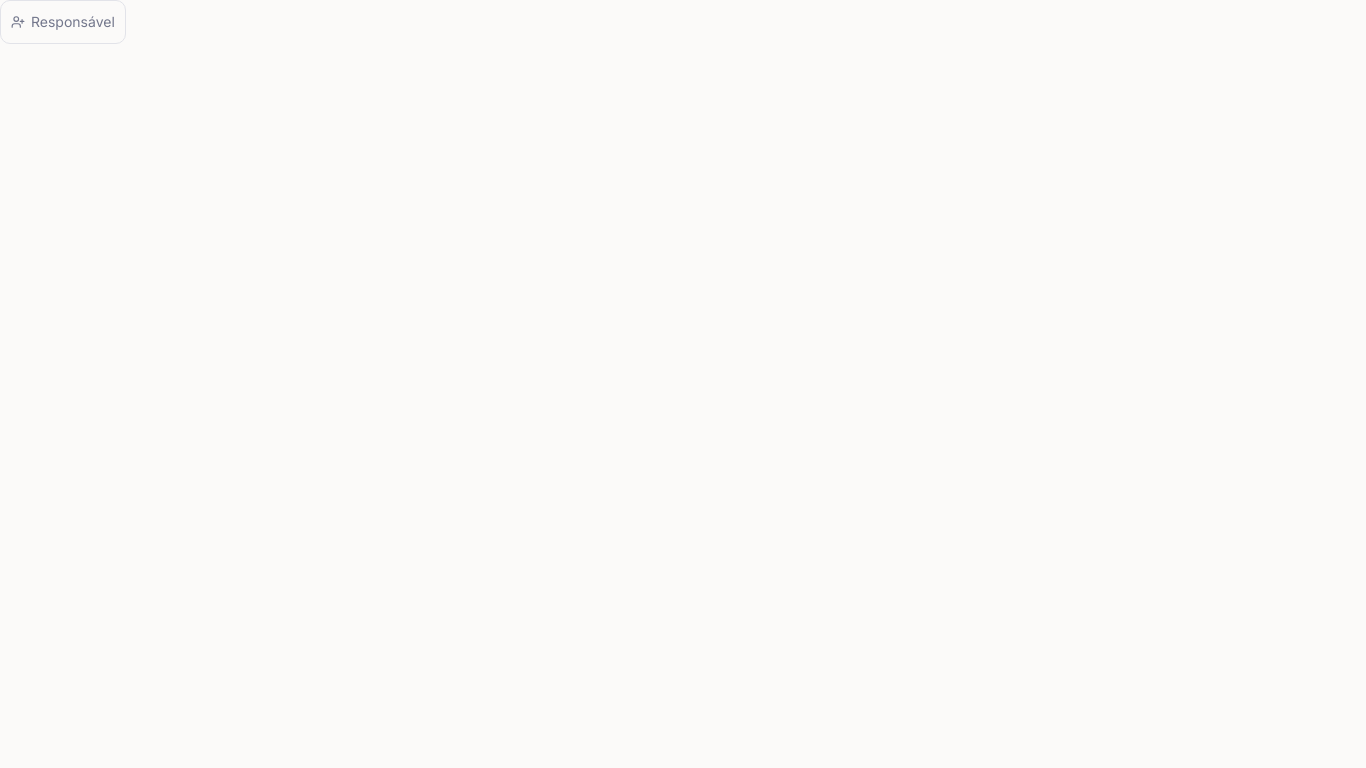
Scenario: AssigneeChip › opens mobile selection without forcing the keyboard and preserves the selection when closed
Click the button with aria-label "Responsável: Responsável". click: (63, 22)
box: [0,0,126,44]
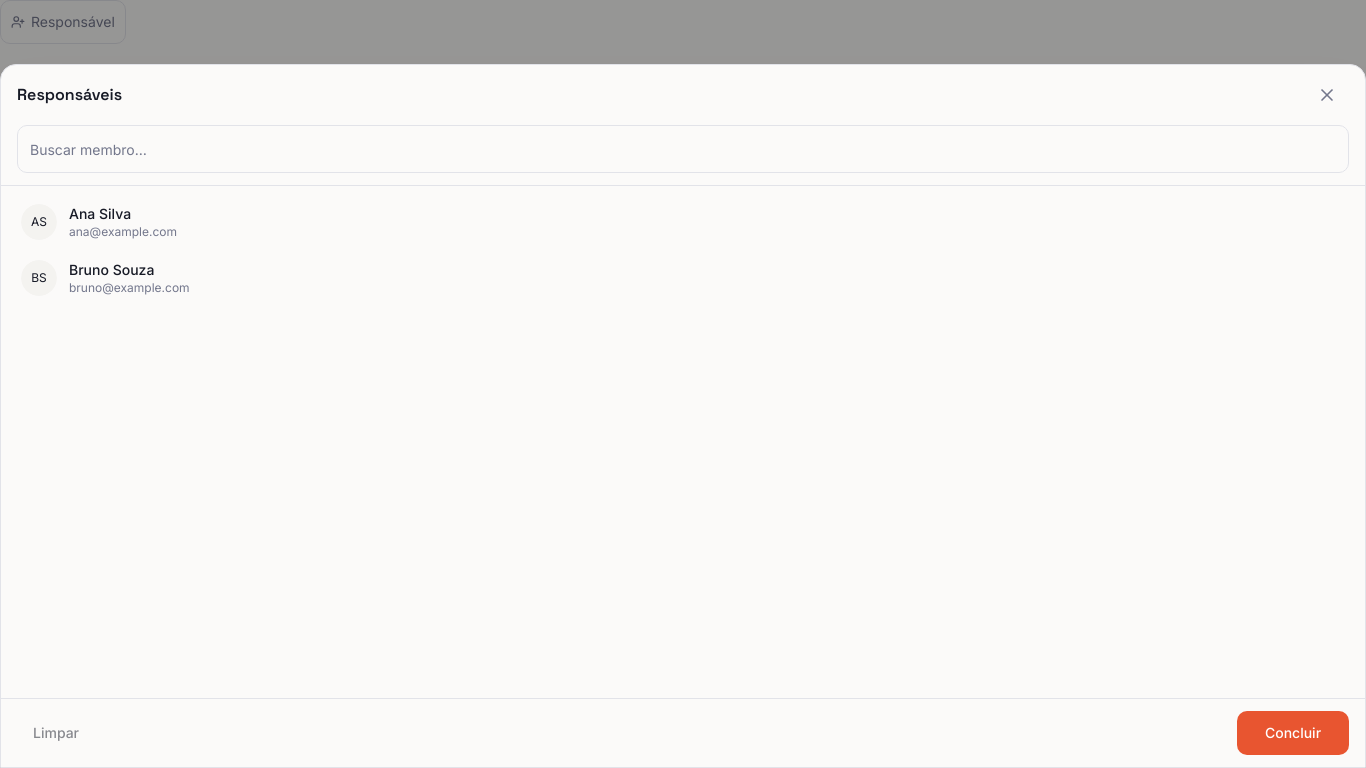
Expected: the dialog "Responsáveis" is shown
Click the button "AS Ana Silva ana@example.com". click: (39, 222)
box: [9,194,1357,250]
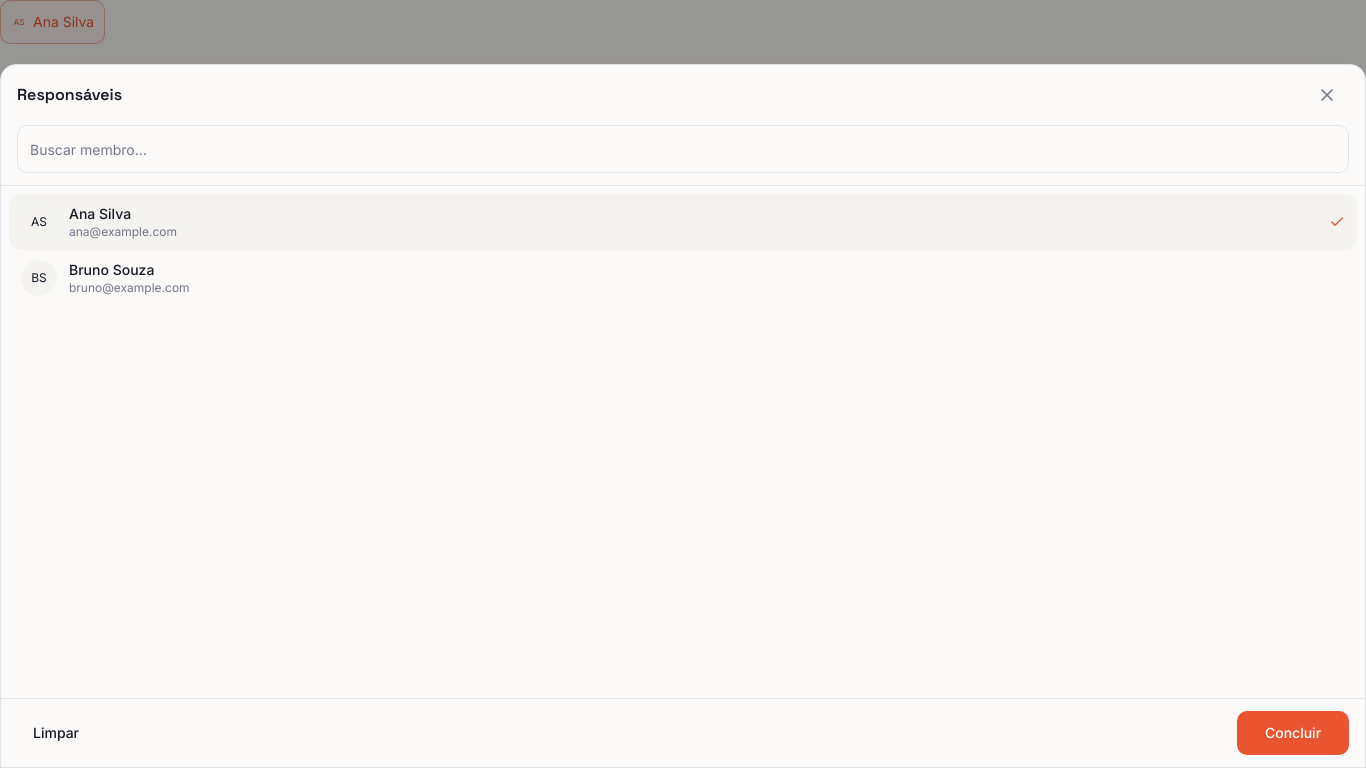
Expected: the button "Concluir" is enabled
Click the button "Concluir". click: (1293, 733)
box: [1237,711,1349,755]
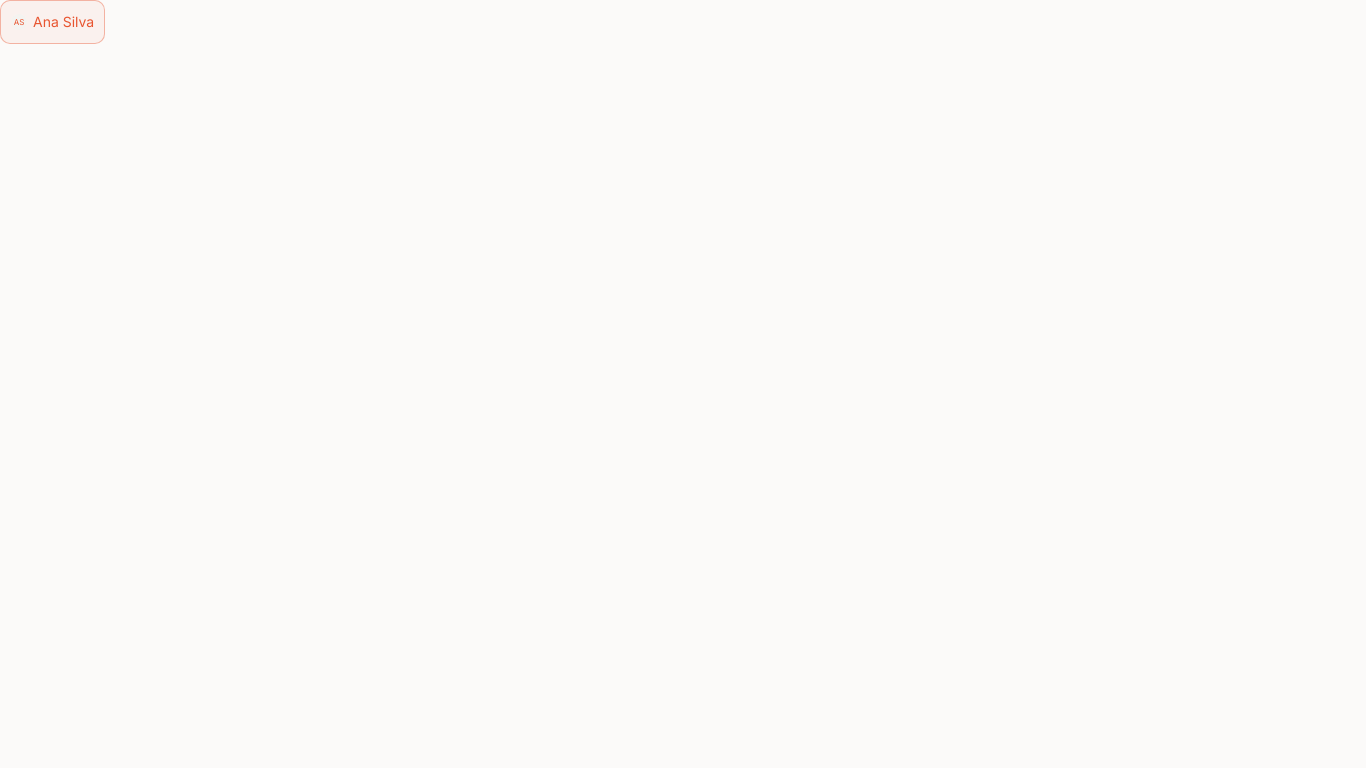
Expected: the button with aria-label "Responsável: Ana Silva" is shown
Click the button with aria-label "Responsável: Ana Silva". click: (53, 22)
box: [0,0,105,44]
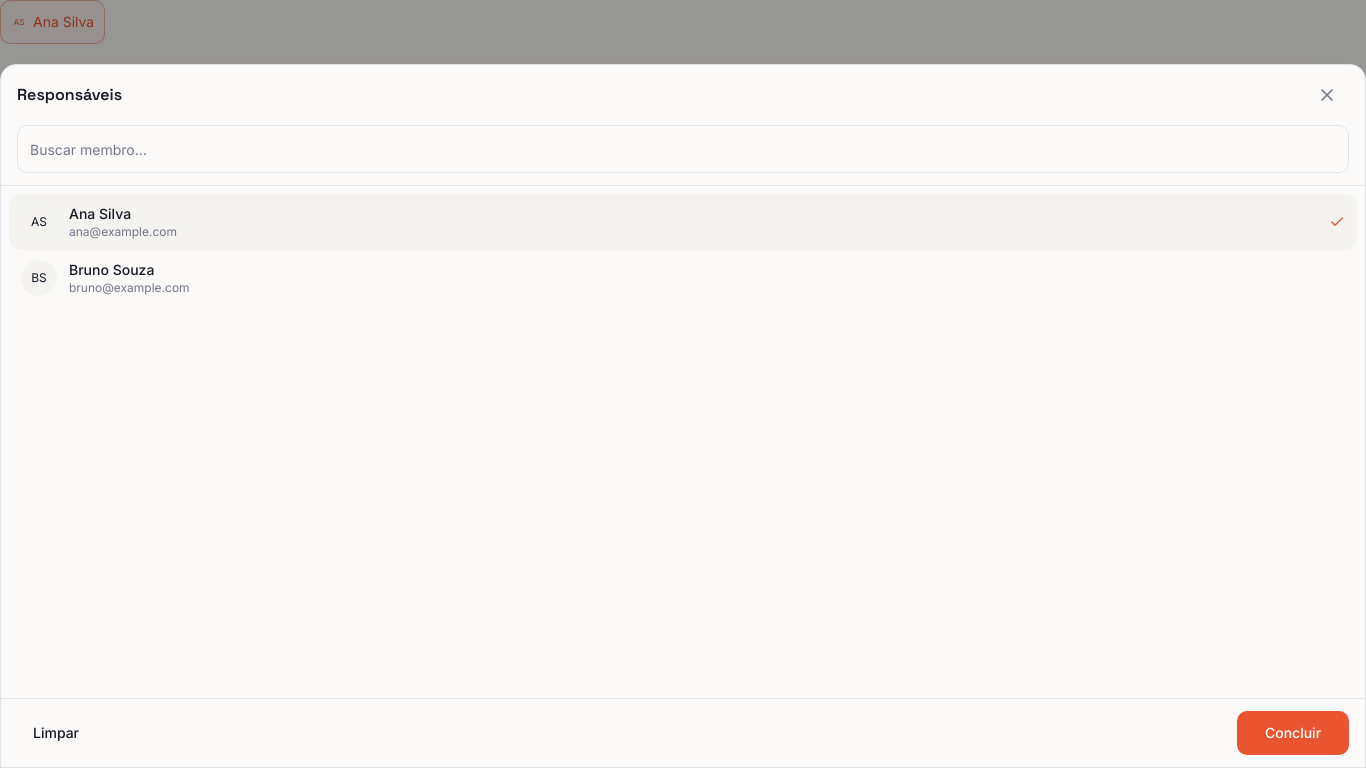
Expected: the button "AS Ana Silva ana@example.com" is pressed, [9,194,1357,250]
